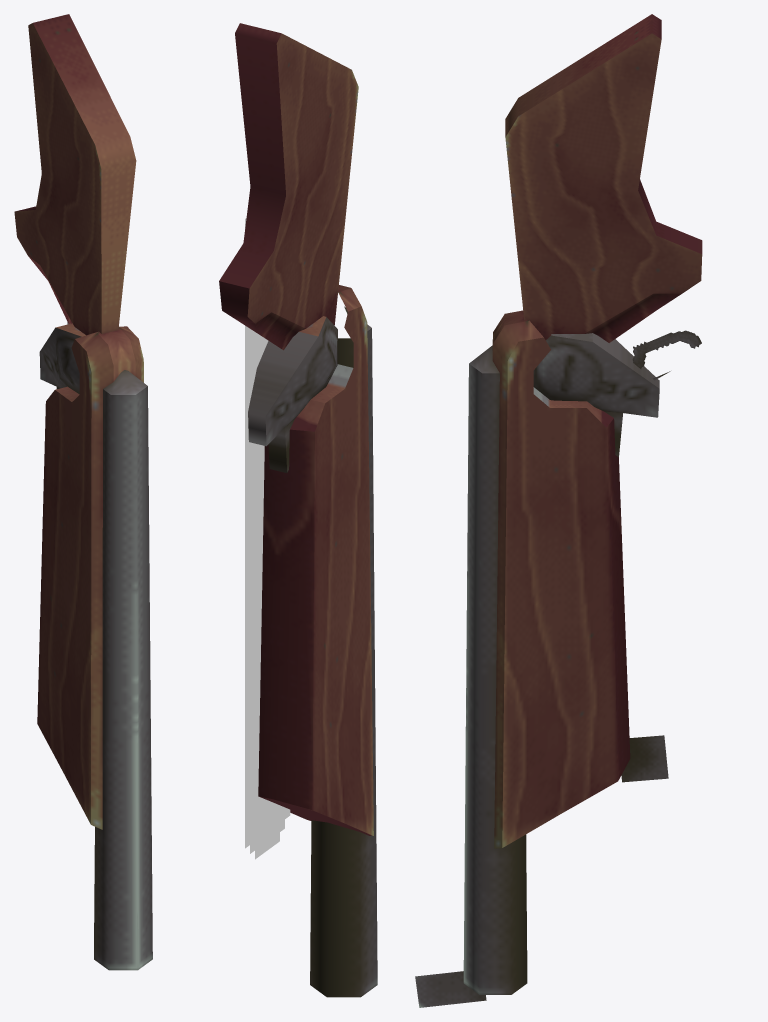
Rendered from model_rifle_01.glb.
3 views of the same model, side by side, from view 1: azimuth 30°, elevation 25°; view 2: azimuth 150°, elevation 25°; view 3: azimuth 270°, elevation 25° (orthographic). The views are drawn at different scales.
Visible parts, largest first — view 1: huntinglodge.model_rifle_01-MeshNodes["huntingRifle"]; view 2: huntinglodge.model_rifle_01-MeshNodes["huntingRifle"], huntinglodge.model_rifle_01_shadow-Mesh[0]; view 3: huntinglodge.model_rifle_01-MeshNodes["huntingRifle"].
Part boxes in pixels (left/top/right/bottom): huntinglodge.model_rifle_01-MeshNodes["huntingRifle"]: left=14, top=14, right=152, bottom=970; huntinglodge.model_rifle_01-MeshNodes["huntingRifle"]: left=219, top=23, right=377, bottom=997; huntinglodge.model_rifle_01_shadow-Mesh[0]: left=245, top=218, right=290, bottom=859; huntinglodge.model_rifle_01-MeshNodes["huntingRifle"]: left=415, top=14, right=702, bottom=1007.
Size of the model in its own units: 0.1927 by 2.86 by 0.8916.
2 materials, 2 textured.
